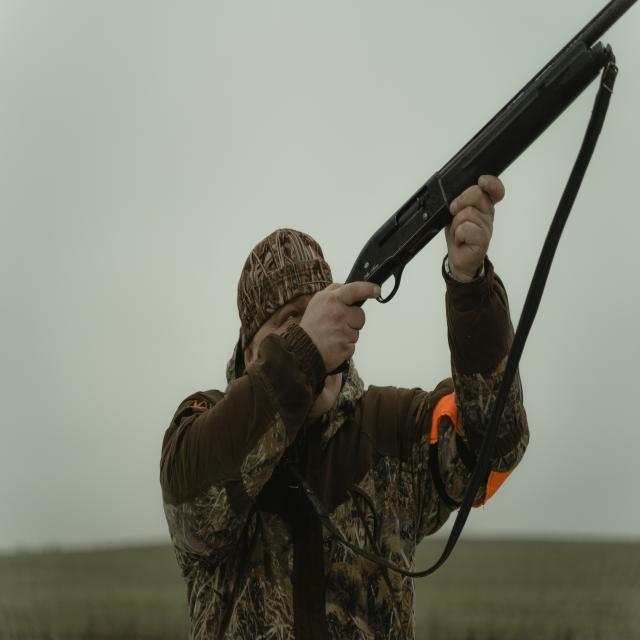ShotGun: (349, 0, 640, 302)
